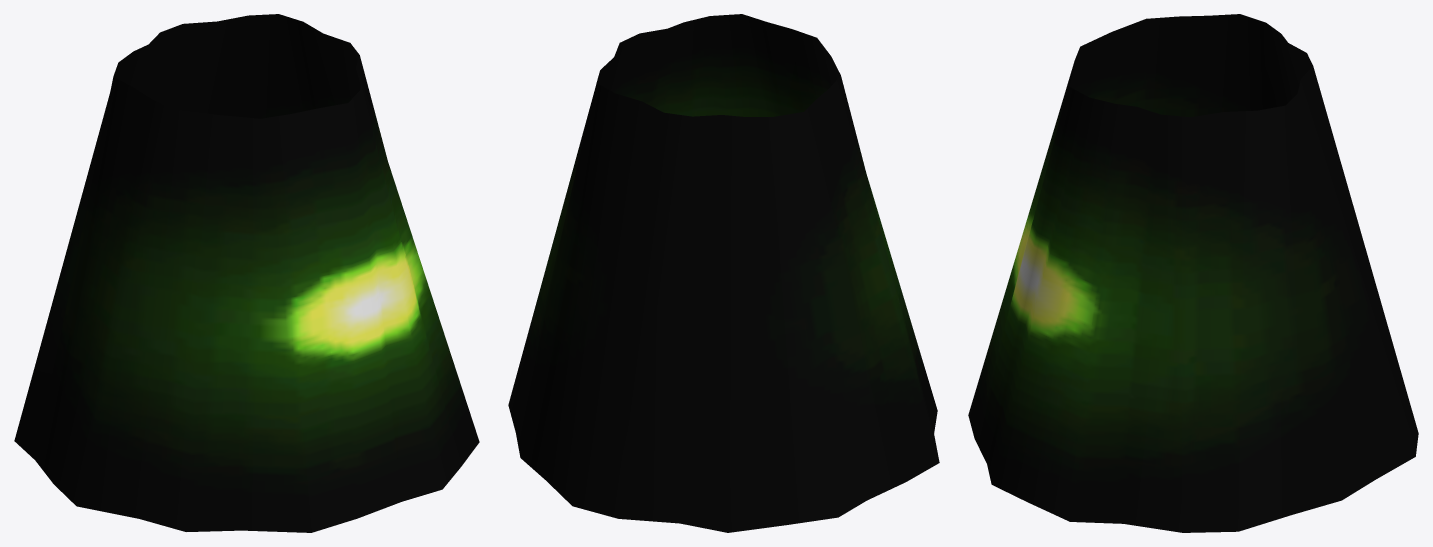
The model's file is 0356_keleiseliya_light_z01.glb.
3 views of the same model, side by side, from view 1: azimuth 30°, elevation 25°; view 2: azimuth 150°, elevation 25°; view 3: azimuth 270°, elevation 25° (orthographic).
Size of the model in its own units: 2.2 by 2 by 2.2.
1 material, 1 textured.
